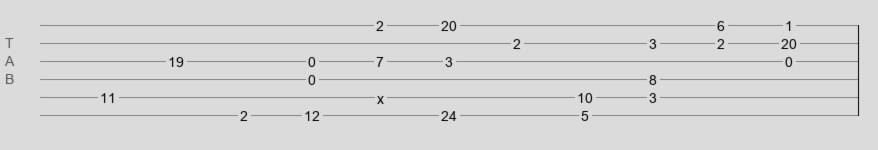0: (308, 54, 316, 64), (308, 72, 316, 82), (785, 54, 793, 64)
1: (785, 18, 793, 28)
10: (577, 90, 593, 100)
11: (100, 90, 116, 100)
12: (304, 108, 320, 118)
19: (168, 54, 184, 64)
2: (240, 108, 248, 118), (376, 18, 384, 28), (513, 36, 521, 46), (717, 36, 725, 46)
20: (441, 18, 457, 28), (781, 36, 797, 46)
24: (441, 108, 457, 118)
3: (445, 54, 453, 64), (649, 90, 657, 100), (649, 36, 657, 46)
5: (581, 108, 589, 118)
6: (717, 18, 725, 28)
7: (376, 54, 384, 64)
8: (649, 72, 657, 82)
x: (377, 91, 384, 99)
